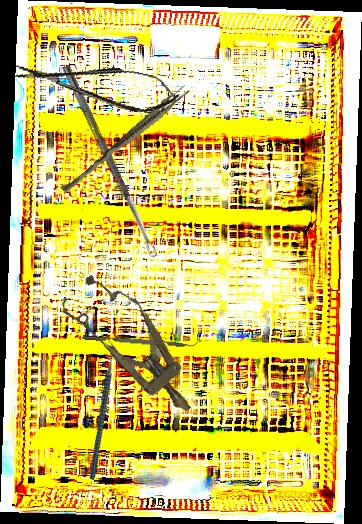Chopper: (43, 335, 157, 481), (82, 329, 202, 350)
Micro Scissor: (10, 47, 183, 120)
Speculum: (54, 262, 214, 432)
Surgical Spoon: (60, 63, 159, 260)
Tissue Forceps: (60, 81, 191, 199)
